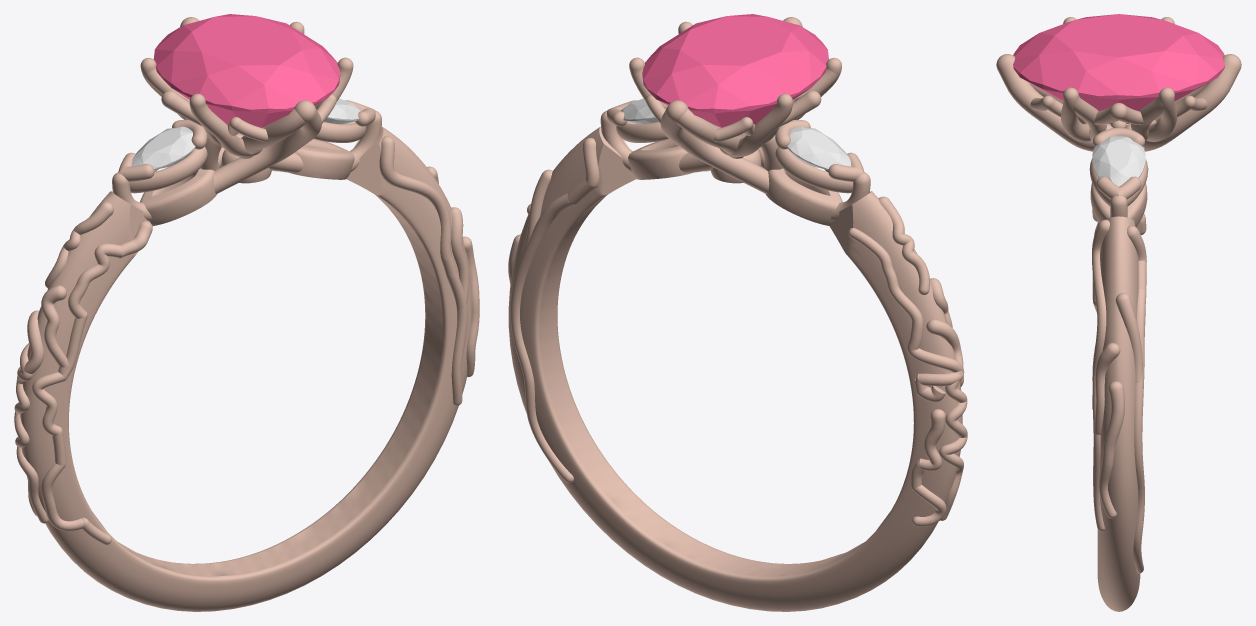
Rendered from IanENGrose.glb.
3 views of the same model, side by side, from view 1: azimuth 30°, elevation 25°; view 2: azimuth 150°, elevation 25°; view 3: azimuth 270°, elevation 25° (orthographic). The views are drawn at different scales.
Visible parts, largest first — view 1: Ian RG for 3d model, Ian pink sapph for 3d model, Ian dia for 3d model.001, Ian dia for 3d model; view 2: Ian RG for 3d model, Ian pink sapph for 3d model, Ian dia for 3d model.001, Ian dia for 3d model; view 3: Ian RG for 3d model, Ian pink sapph for 3d model, Ian dia for 3d model.
Boxes of the visible parts, x1,y1,x2,y2 form: Ian RG for 3d model: [14, 17, 479, 611]; Ian pink sapph for 3d model: [153, 14, 340, 127]; Ian dia for 3d model.001: [131, 126, 195, 170]; Ian dia for 3d model: [324, 98, 362, 124]; Ian RG for 3d model: [508, 17, 967, 611]; Ian pink sapph for 3d model: [642, 14, 828, 127]; Ian dia for 3d model.001: [787, 126, 851, 169]; Ian dia for 3d model: [620, 98, 658, 124]; Ian RG for 3d model: [996, 17, 1241, 611]; Ian pink sapph for 3d model: [1013, 14, 1224, 123]; Ian dia for 3d model: [1092, 136, 1145, 186].
Size of the model in its own units: 24.19 by 28.46 by 11.44.
